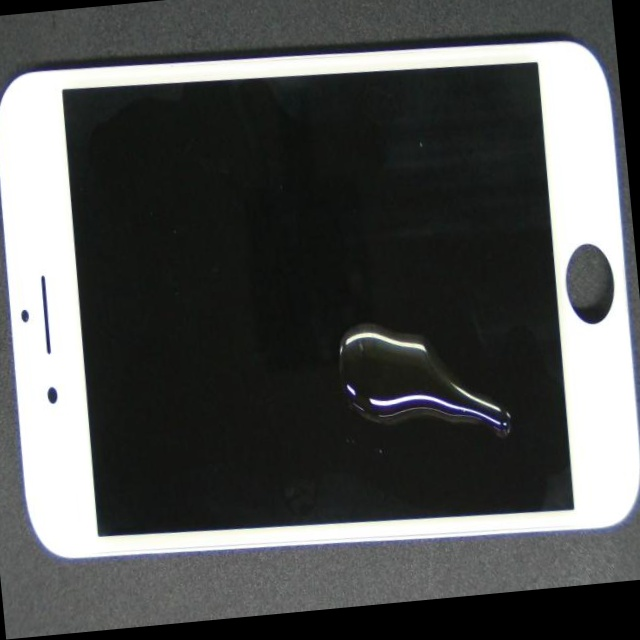oil: (241, 204, 640, 614)
